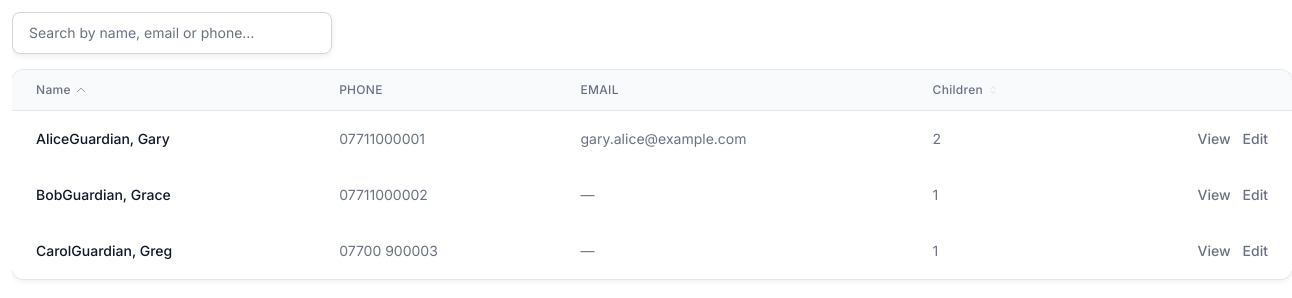
Test: GuardiansTable › filters by phone ignoring formatting differences
The image size is (1292, 298).
Type "07700900003" into the search field with placeholder "Search by name, email or phone…".
click(172, 33); type("07700900003")  # box [12,12,332,54]
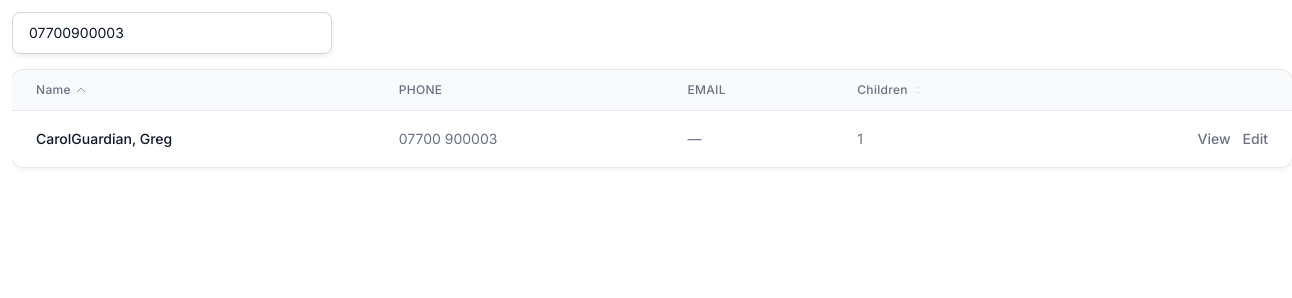
Expected: the text "AliceGuardian, Gary" is gone
